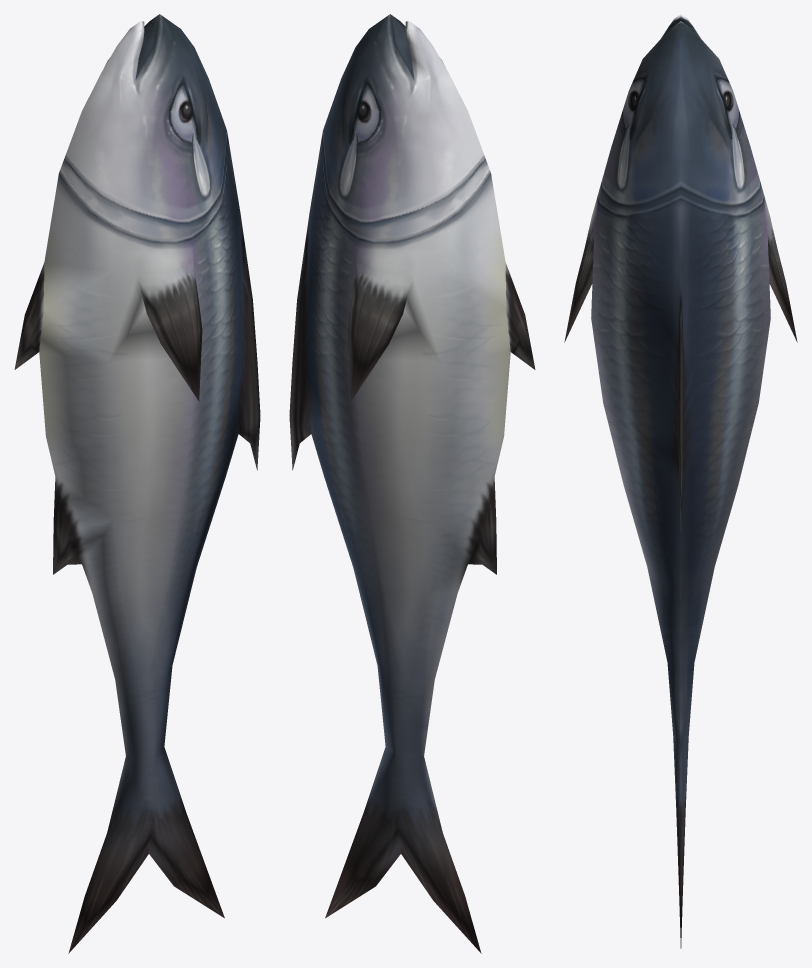
File: Weapon_fish_sword.fbx
The picture shows the model from 3 angles, left to right: view 1: azimuth 30°, elevation 25°; view 2: azimuth 150°, elevation 25°; view 3: azimuth 270°, elevation 25°; orthographic projection. The views are drawn at different scales.
Parts seen in each view (by area): view 1: Weapon_fish_sword; view 2: Weapon_fish_sword; view 3: Weapon_fish_sword.
Boxes of the visible parts, x1,y1,x2,y2 form: Weapon_fish_sword: (14, 14, 260, 953); Weapon_fish_sword: (289, 14, 535, 953); Weapon_fish_sword: (564, 14, 797, 948).
Bounding box in the file's own units: 39.63 × 142 × 33.25.
